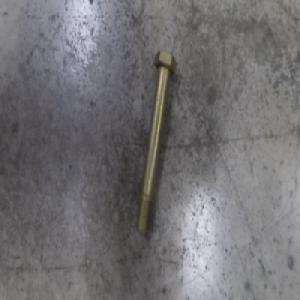Bolt: (135, 47, 177, 236)
